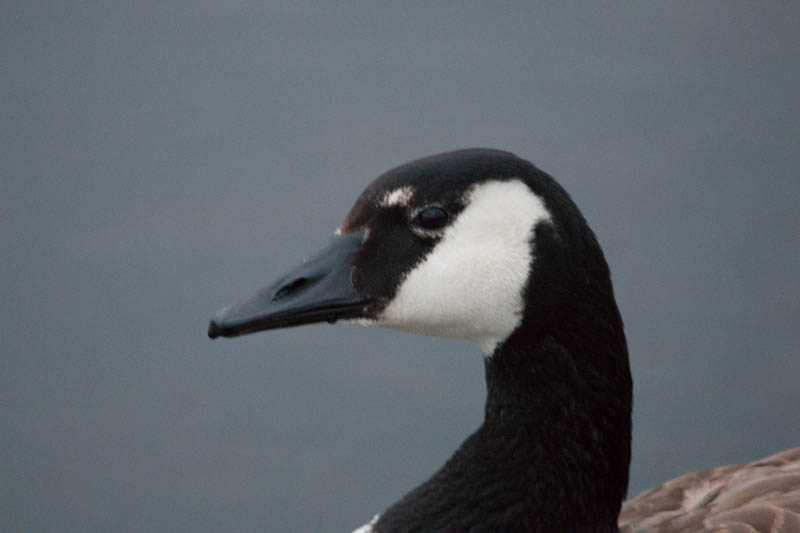goose-head: (206, 147, 606, 356)
